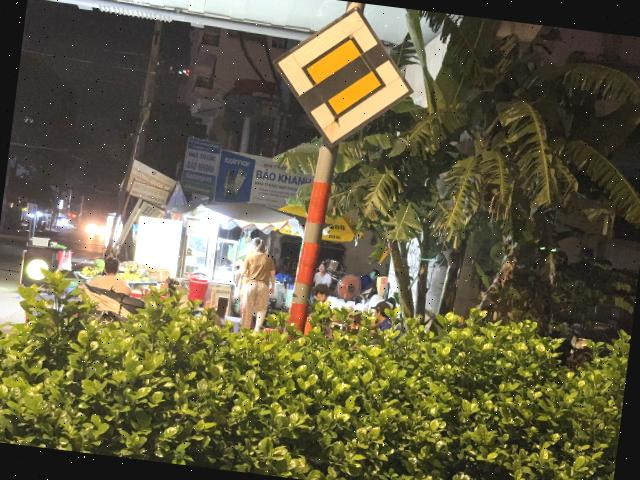het-duong-uu-tien: (262, 0, 423, 158)
